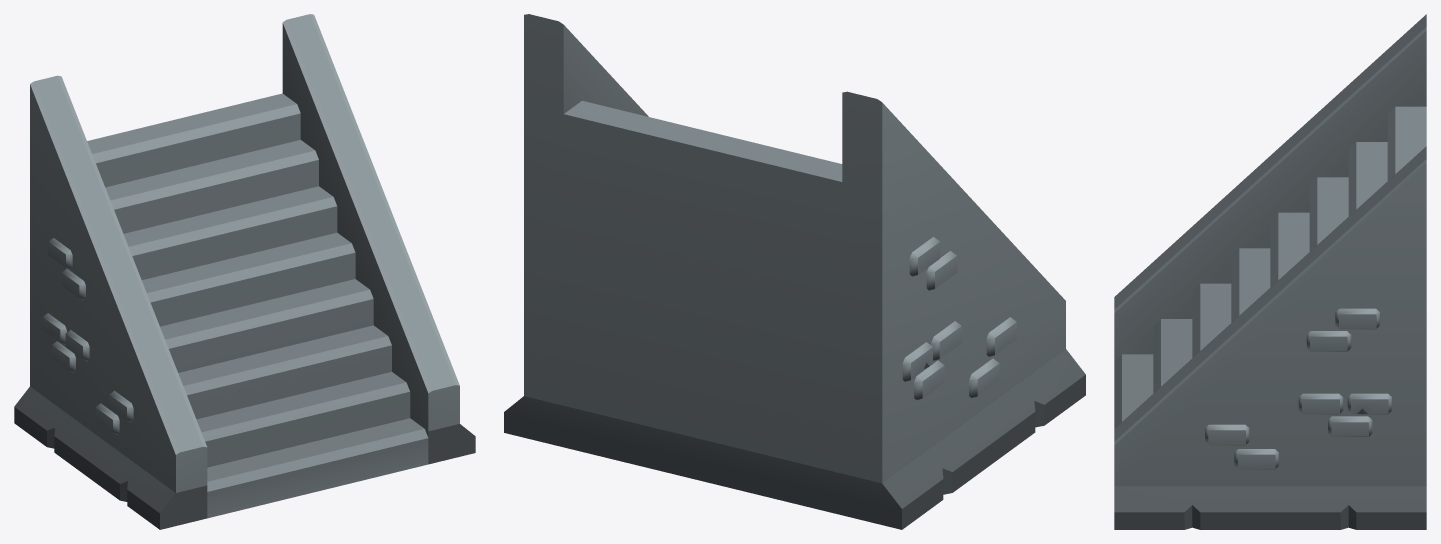
Rendered from dungeon-stairs.glb.
The picture shows the model from 3 angles, left to right: view 1: azimuth 30°, elevation 25°; view 2: azimuth 150°, elevation 25°; view 3: azimuth 270°, elevation 25°; orthographic projection. The views are drawn at different scales.
Visible parts, largest first — view 1: dungeon-stairs; view 2: dungeon-stairs; view 3: dungeon-stairs.
Boxes of the visible parts, x1,y1,x2,y2 form: dungeon-stairs: [14, 14, 475, 529]; dungeon-stairs: [504, 14, 1085, 529]; dungeon-stairs: [1114, 14, 1426, 529].
Bounding box in the file's own units: 3.75 × 3.82 × 3.
Materials: 1 (1 with a texture image).
